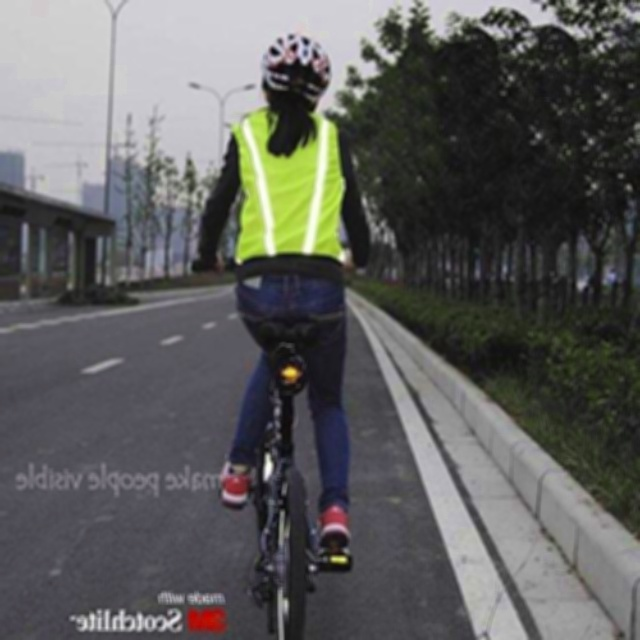Con_Chaleco: (235, 107, 350, 262)
